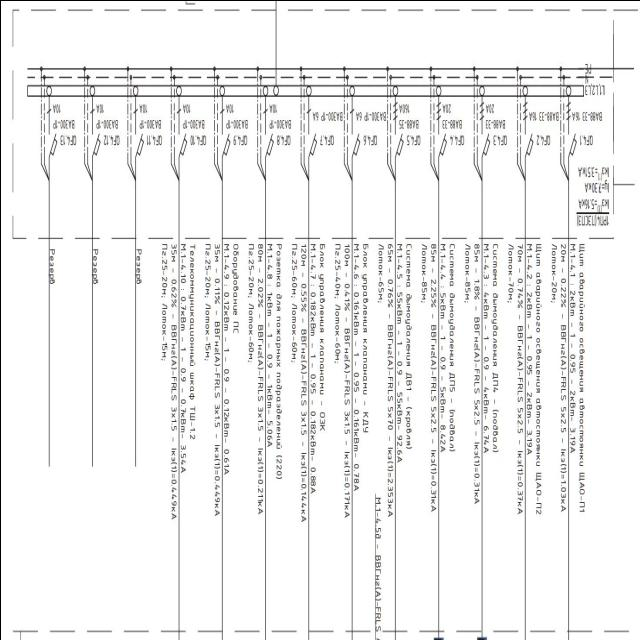-: (224, 102, 248, 132), (181, 100, 203, 130), (268, 100, 290, 130), (52, 100, 74, 130), (96, 100, 118, 130), (138, 100, 160, 130), (484, 100, 505, 130), (441, 100, 462, 130), (397, 102, 418, 132), (527, 107, 559, 122), (312, 108, 344, 121), (570, 109, 602, 122), (354, 108, 386, 121)
QF: (565, 100, 577, 158), (521, 101, 533, 159), (478, 100, 490, 158), (434, 100, 446, 158), (392, 101, 404, 159), (304, 108, 316, 162), (261, 107, 273, 161), (218, 104, 230, 158), (348, 106, 360, 160), (46, 106, 58, 160), (88, 105, 100, 159), (132, 106, 144, 160), (175, 106, 187, 160)
